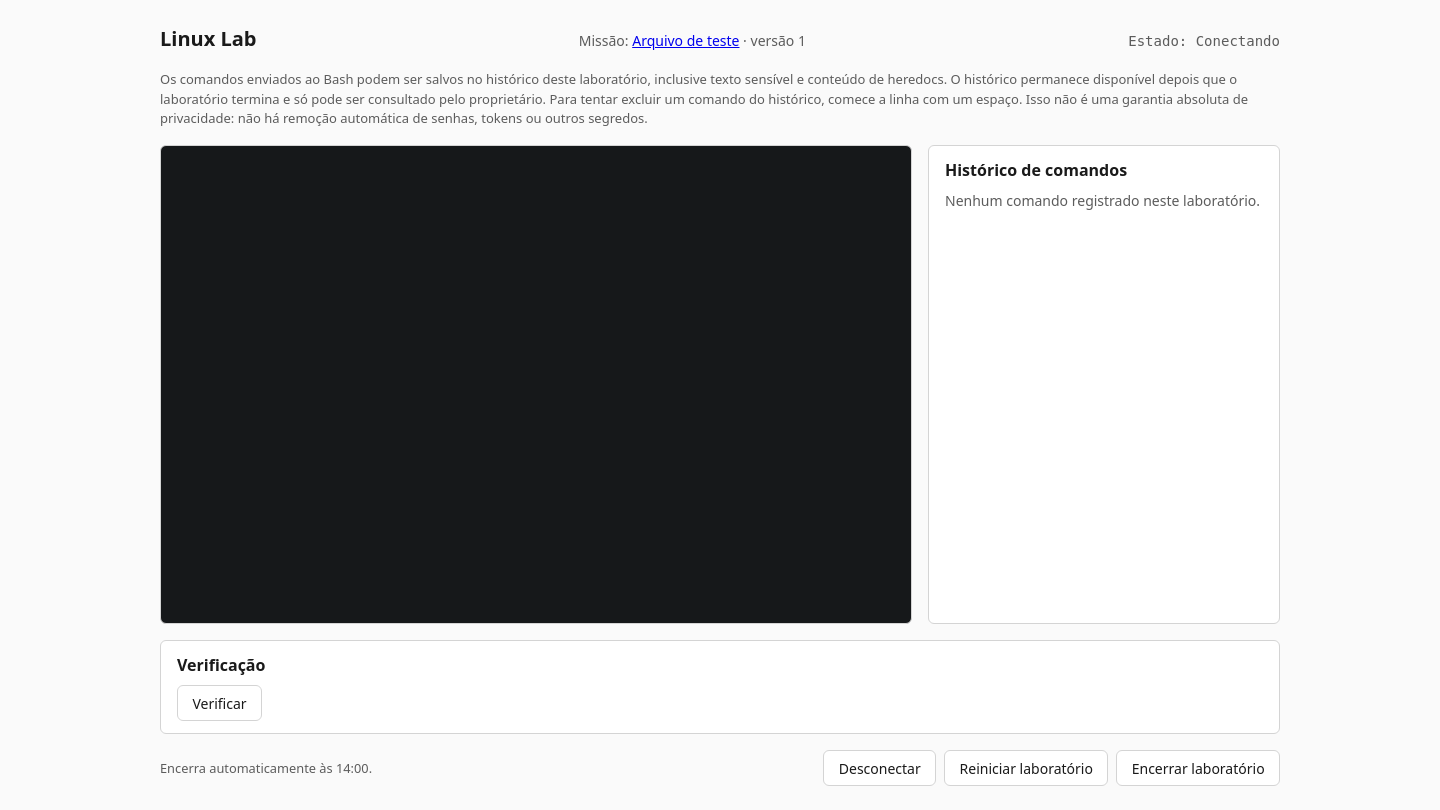
Scenario: late responses of operations started by the previous user › still stores the result of an operation of the signed-in user
The width and height of the screenshot is (1440, 810).
Click the button "Verificar" at (220, 703), box [177, 685, 262, 721]
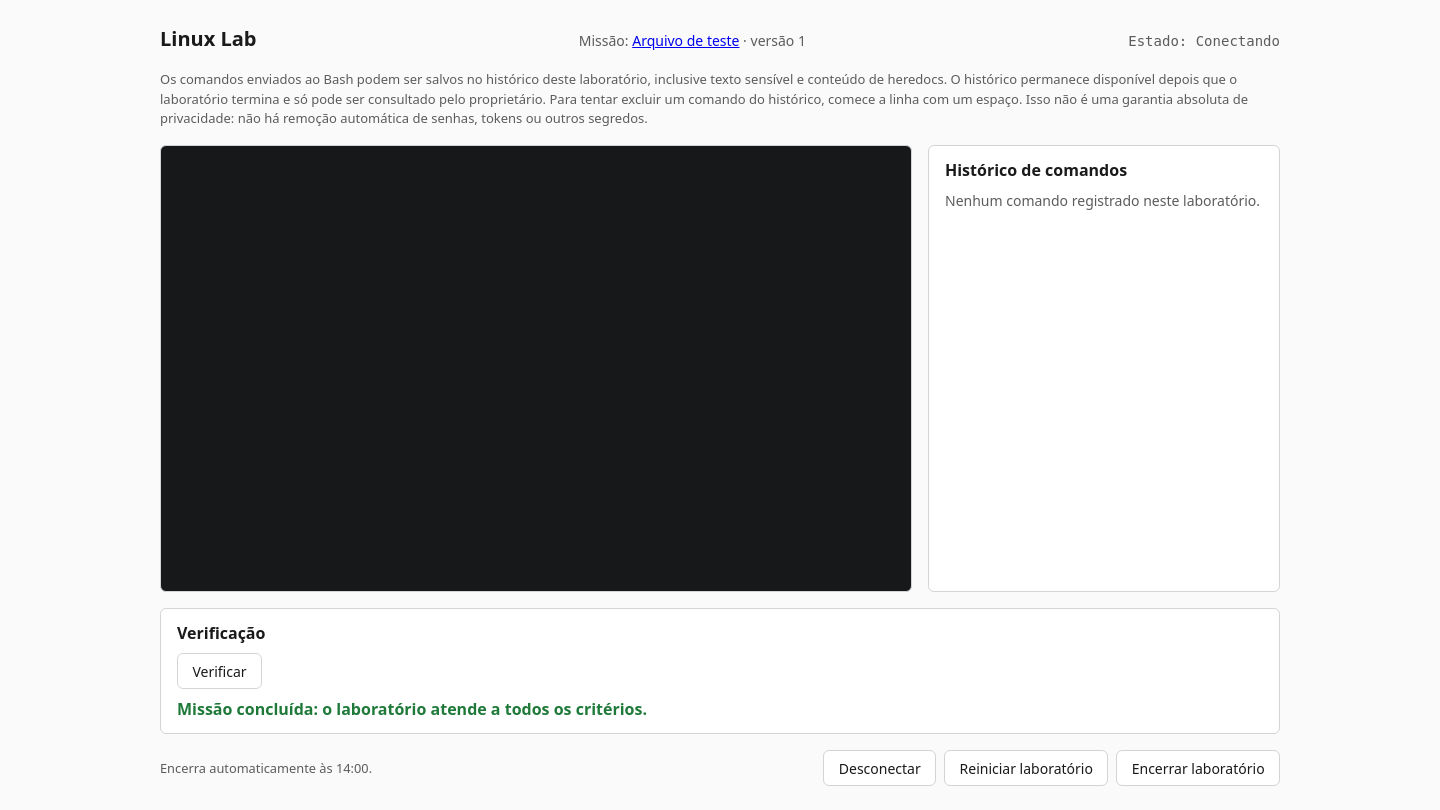
expect the text "Missão concluída: o laboratório atende a todos os critérios." is shown: met, box [177, 697, 647, 721]
